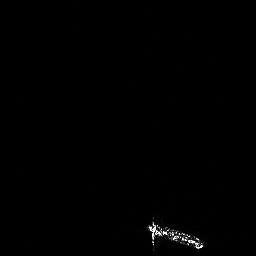ship: (142, 212, 208, 252)
